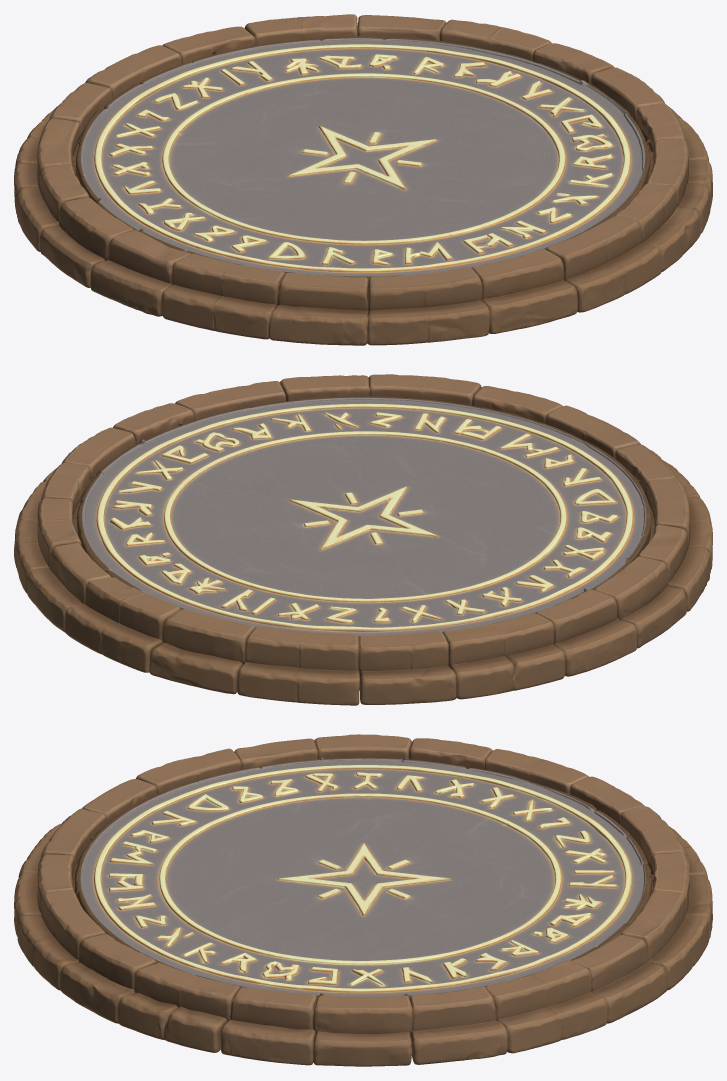
File: rune_gate_high.glb
The picture shows the model from 3 angles, top to bottom: view 1: azimuth 30°, elevation 25°; view 2: azimuth 150°, elevation 25°; view 3: azimuth 270°, elevation 25°; orthographic projection.
Bounding box in the file's own units: 1.9 × 0.1508 × 1.9.
Materials: 1 (1 with a texture image).
